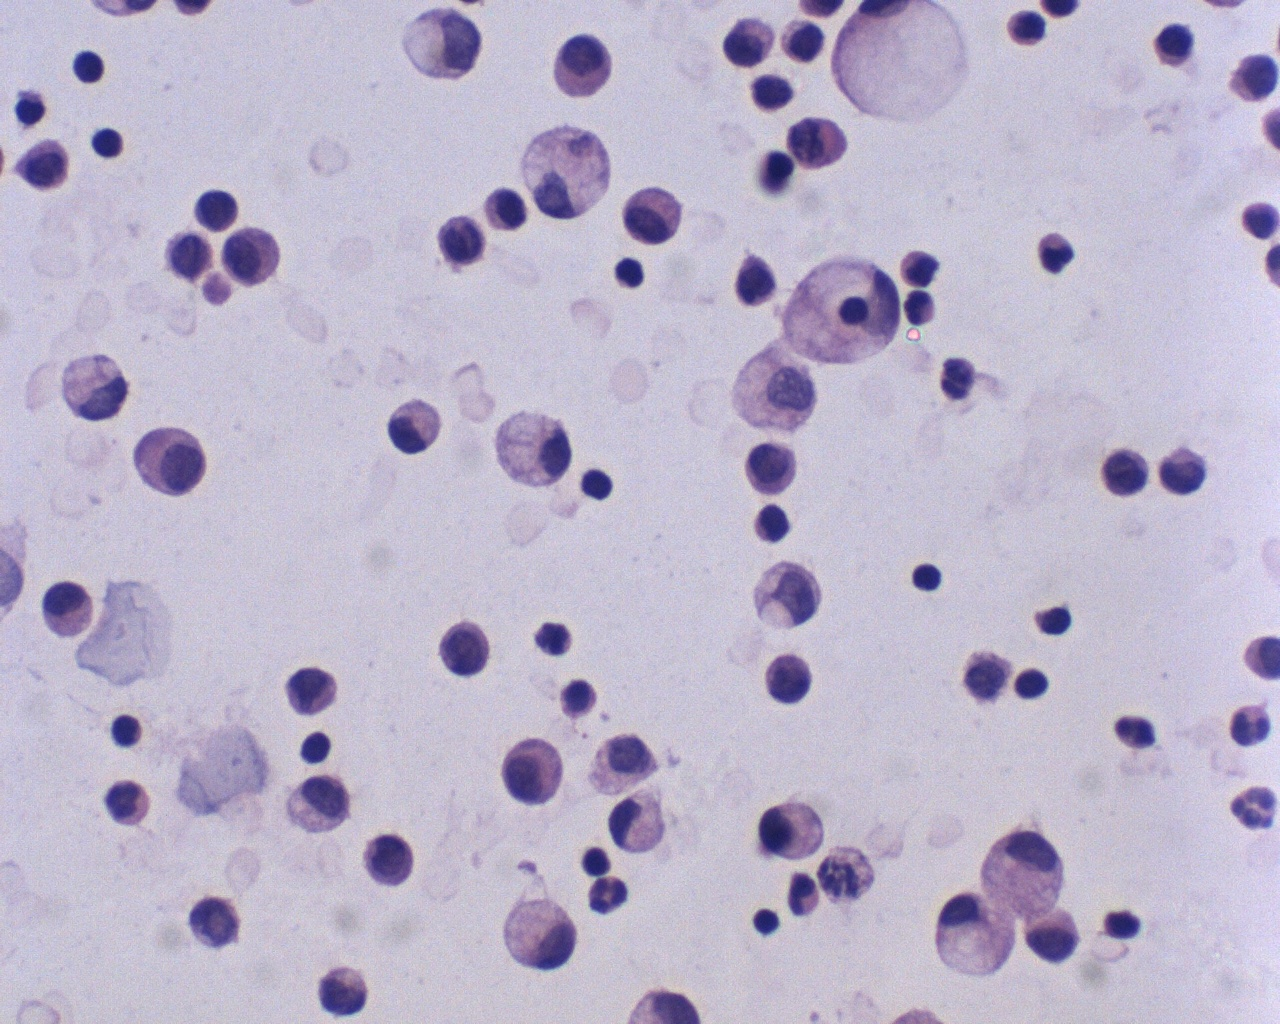ab: (788, 107, 864, 176), (10, 130, 79, 194), (758, 647, 821, 717), (357, 825, 423, 891), (433, 616, 496, 681), (739, 433, 801, 497), (315, 963, 376, 1024), (1157, 439, 1214, 503), (185, 891, 246, 951), (1093, 443, 1150, 501)
histo: (831, 1, 978, 131), (776, 253, 903, 368), (976, 827, 1067, 917), (933, 890, 1020, 979), (493, 408, 577, 496), (494, 895, 577, 970)
lymph: (71, 42, 115, 87), (1013, 665, 1055, 707), (108, 703, 149, 747), (580, 459, 616, 505), (610, 253, 649, 293), (90, 122, 126, 163), (296, 730, 335, 766), (751, 906, 786, 941), (910, 561, 942, 595)
meso: (122, 419, 210, 497), (501, 734, 568, 814), (757, 792, 828, 868), (550, 28, 619, 102), (618, 180, 684, 249), (385, 392, 446, 465), (36, 576, 98, 643), (220, 223, 282, 290)
neutro: (1228, 779, 1277, 838), (934, 351, 983, 408), (1026, 228, 1079, 279), (106, 773, 152, 832), (1227, 698, 1276, 749), (583, 872, 633, 918), (1109, 709, 1161, 753), (779, 872, 827, 918), (529, 618, 576, 658), (902, 288, 942, 333)
